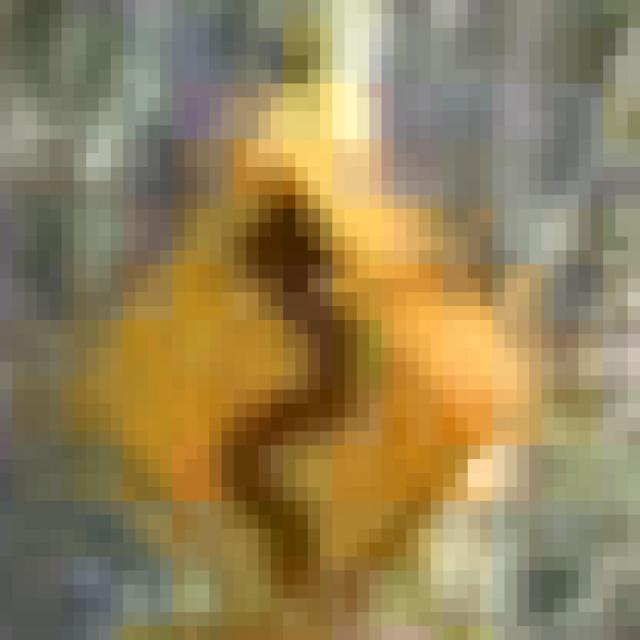Banyak Tikungan Pertama Kiri: (24, 69, 542, 626)
